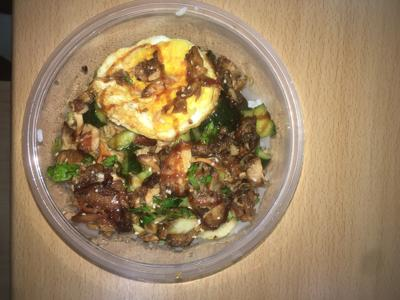krbf: (80, 47, 256, 234)
